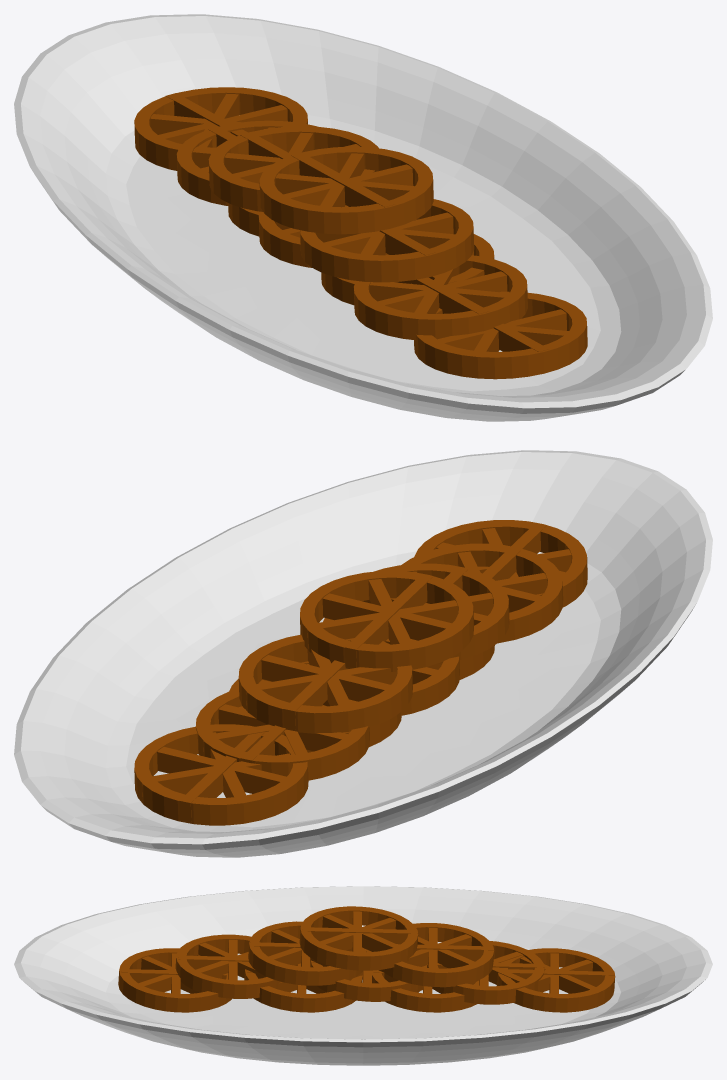
The model's file is saroja .fbx.
3 renders of one model, top to bottom at view 1: azimuth 30°, elevation 25°; view 2: azimuth 150°, elevation 25°; view 3: azimuth 270°, elevation 25°, orthographic. The views are drawn at different scales.
Visible parts, largest first — view 1: Cylinder, Cylinder.010, Cylinder.001, Cylinder.008, Cylinder.007, Cylinder.004, Cylinder.009, Cylinder.005, Cube.039, Cube.036, Cube.024, Cylinder.006 (+17 smaller); view 2: Cylinder, Cylinder.010, Cylinder.004, Cylinder.009, Cylinder.005, Cylinder.007, Cylinder.001, Cylinder.008, Cube.012, Cube.036, Cube.032, Cube.039 (+13 smaller); view 3: Cylinder, Cylinder.010, Cylinder.004, Cylinder.009, Cylinder.001, Cylinder.007, Cylinder.008, Cylinder.005, Cylinder.002, Cylinder.003, Cylinder.006, Cube.039 (+23 smaller).
Boxes of the visible parts, bbox=[...] form: Cylinder: bbox=[14, 14, 712, 421]; Cylinder.010: bbox=[259, 146, 433, 234]; Cylinder.001: bbox=[414, 291, 587, 379]; Cylinder.008: bbox=[300, 199, 474, 282]; Cylinder.007: bbox=[353, 255, 527, 340]; Cylinder.004: bbox=[134, 87, 307, 170]; Cylinder.009: bbox=[208, 126, 378, 211]; Cylinder.005: bbox=[176, 120, 316, 206]; Cube.039: bbox=[291, 152, 395, 207]; Cube.036: bbox=[283, 164, 413, 205]; Cube.024: bbox=[378, 271, 507, 312]; Cylinder.006: bbox=[258, 211, 416, 267]; Cylinder: bbox=[14, 450, 712, 857]; Cylinder.010: bbox=[300, 571, 473, 671]; Cylinder.004: bbox=[134, 724, 308, 825]; Cylinder.009: bbox=[238, 634, 412, 733]; Cylinder.005: bbox=[195, 683, 369, 780]; Cylinder.007: bbox=[402, 543, 563, 643]; Cylinder.001: bbox=[414, 520, 587, 607]; Cylinder.008: bbox=[374, 563, 509, 663]; Cube.012: bbox=[157, 747, 286, 793]; Cube.036: bbox=[322, 593, 451, 640]; Cube.032: bbox=[261, 655, 390, 701]; Cube.039: bbox=[345, 574, 432, 667]; Cylinder: bbox=[14, 886, 712, 1065]; Cylinder.010: bbox=[299, 906, 418, 970]; Cylinder.004: bbox=[496, 948, 615, 1012]; Cylinder.009: bbox=[381, 923, 493, 987]; Cylinder.001: bbox=[118, 948, 231, 1012]; Cylinder.007: bbox=[175, 934, 280, 998]; Cylinder.008: bbox=[248, 921, 366, 985]; Cylinder.005: bbox=[427, 941, 544, 1004]; Cylinder.002: bbox=[244, 964, 362, 1012]; Cylinder.003: bbox=[372, 970, 479, 1012]; Cylinder.006: bbox=[310, 960, 426, 1001]; Cube.039: bbox=[302, 927, 417, 944].
Bounding box in the file's own units: 132 × 30.68 × 250.
